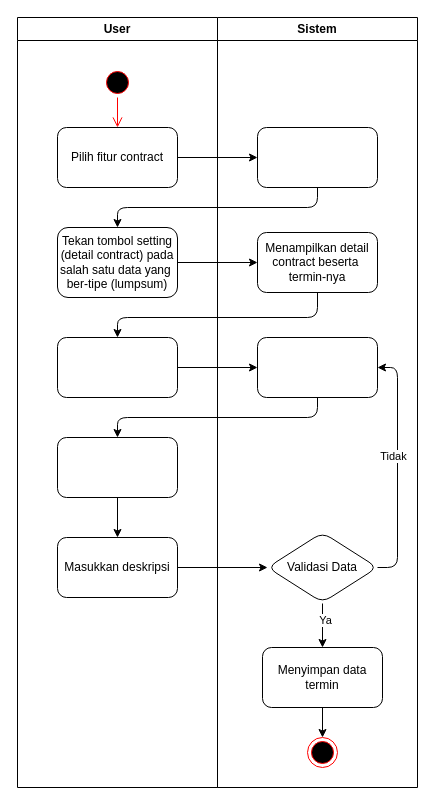
Image size: 435x805. Some labels were removed from this diagram. Each missing label, with the centre of its shape:
Masukkan termin: point 117,467
Menampilkan formulir tambah data termin: point 317,367
Menampilkan halaman Contract: point 317,157
Pilih tombol tambah pada fitur termin di halaman detail contract: point 117,367
